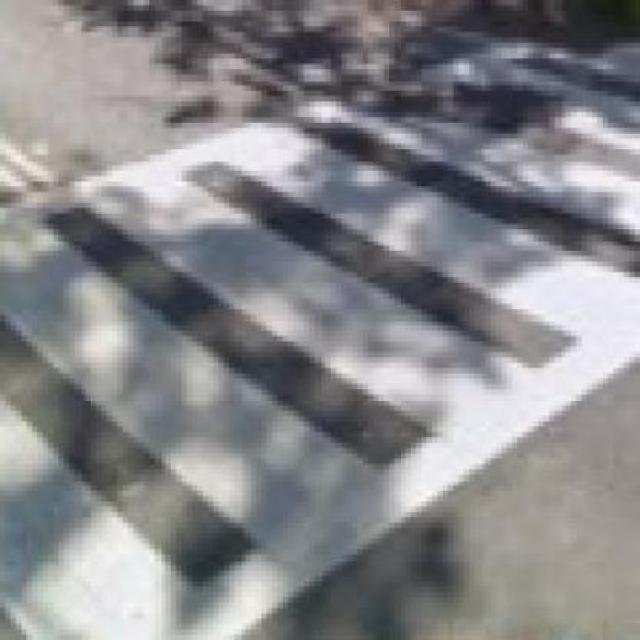crosswalk: (1, 38, 640, 635)
